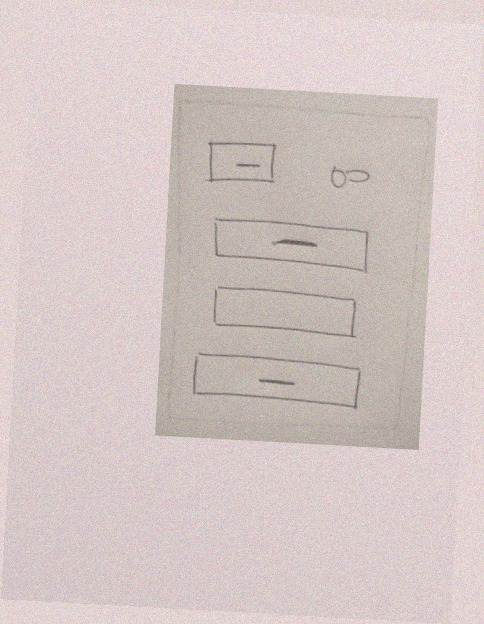button: (187, 347, 368, 417), (207, 212, 374, 278), (201, 137, 282, 190)
switch: (322, 159, 375, 198)
text_input: (205, 279, 365, 345)
